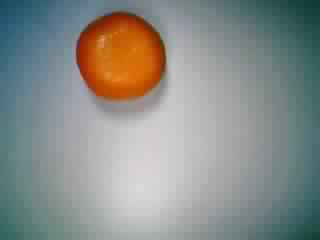orange: (74, 8, 169, 111)
